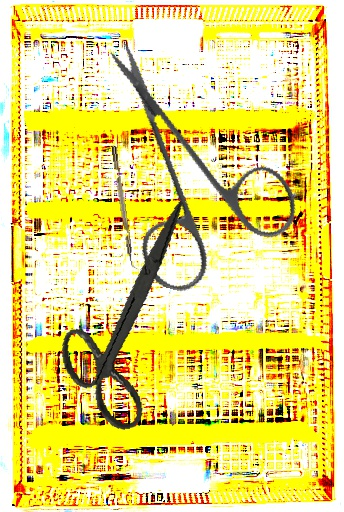Chopper: (111, 144, 140, 271)
Iris Scissors: (52, 40, 329, 317), (37, 200, 222, 439)
